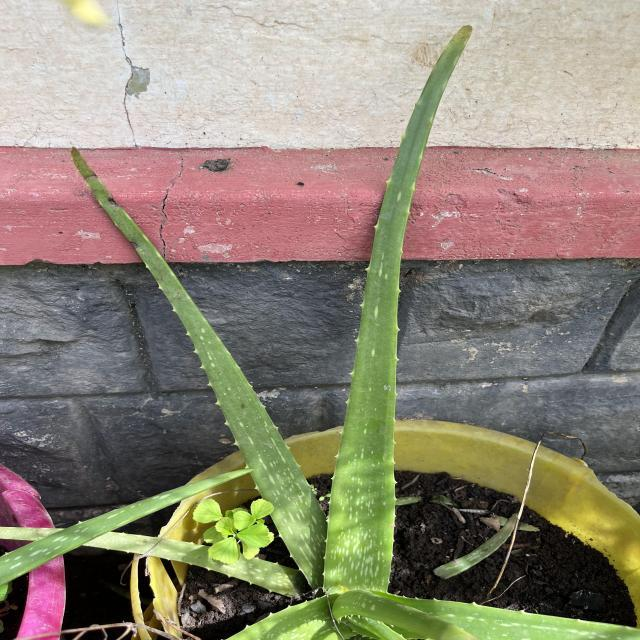Aloe vera: (320, 21, 479, 594)
